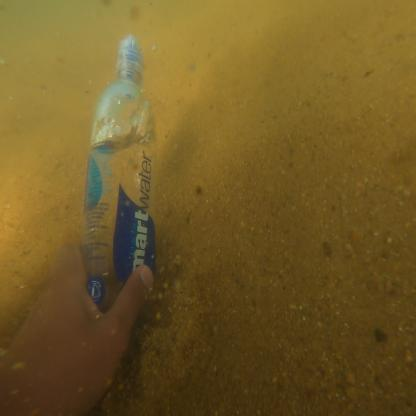Rác: (76, 32, 175, 302)
